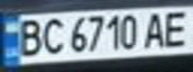0: (118, 11, 142, 51)
1: (103, 11, 124, 51)
6: (66, 14, 90, 53)
7: (84, 12, 106, 52)
A: (139, 9, 172, 50)
B: (12, 17, 45, 57)
C: (39, 16, 66, 56)
E: (157, 7, 193, 48)
